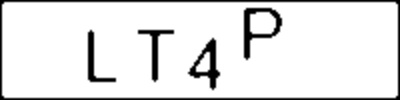4: (186, 34, 225, 94)
L: (85, 22, 123, 87)
P: (241, 5, 287, 64)
T: (134, 27, 180, 85)
